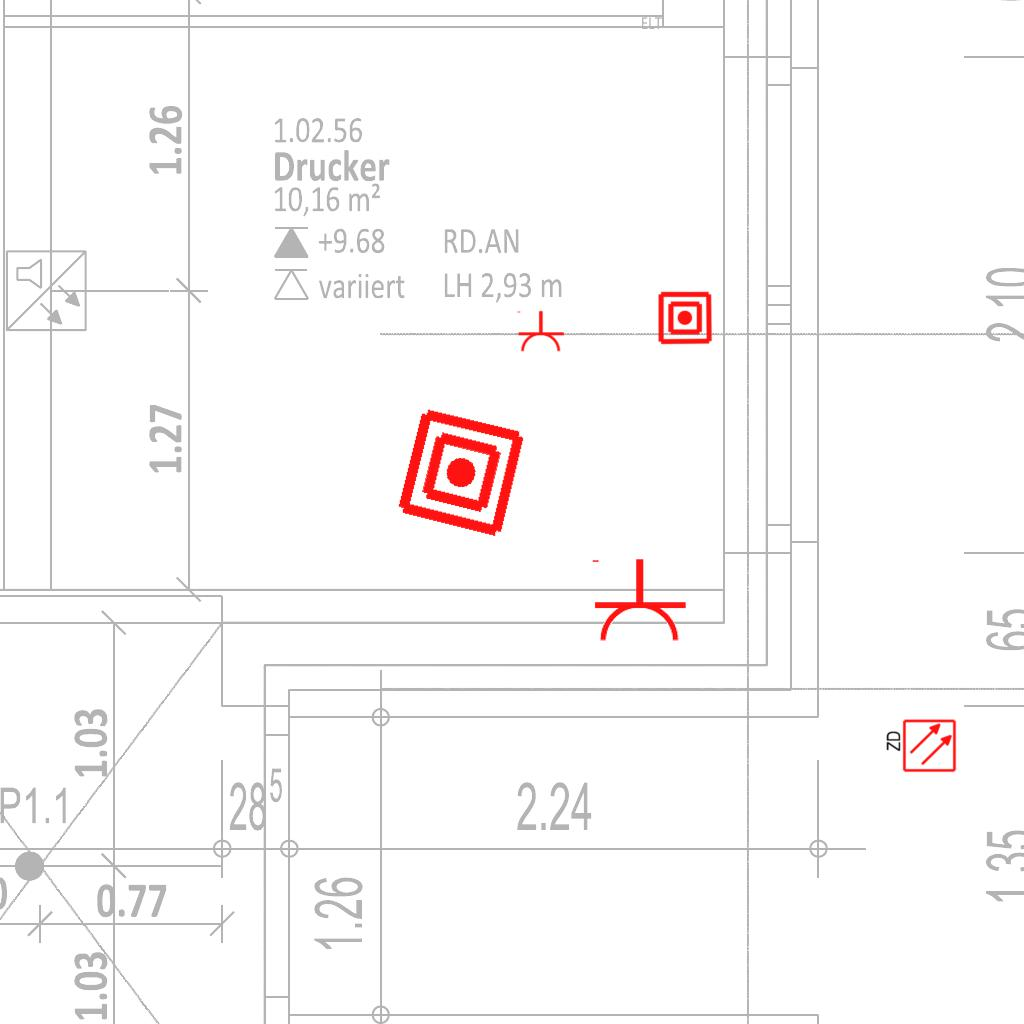NAM-Nichtautomatischer_Melder: (393, 404, 530, 541), (657, 290, 713, 346)
Schukosteckdose_einfach: (588, 557, 688, 644), (515, 310, 565, 353)
ZD_Melder_in_Zwischendecke_mit_Revisionsoeffnung_mind_40_x_40_cm: (883, 718, 957, 775)
